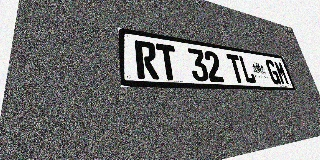2: (203, 50, 224, 82)
3: (187, 48, 210, 82)
G: (264, 59, 282, 85)
L: (238, 55, 257, 84)
M: (273, 61, 290, 85)
R: (134, 40, 160, 80)
T: (156, 43, 180, 80), (226, 54, 246, 83)
